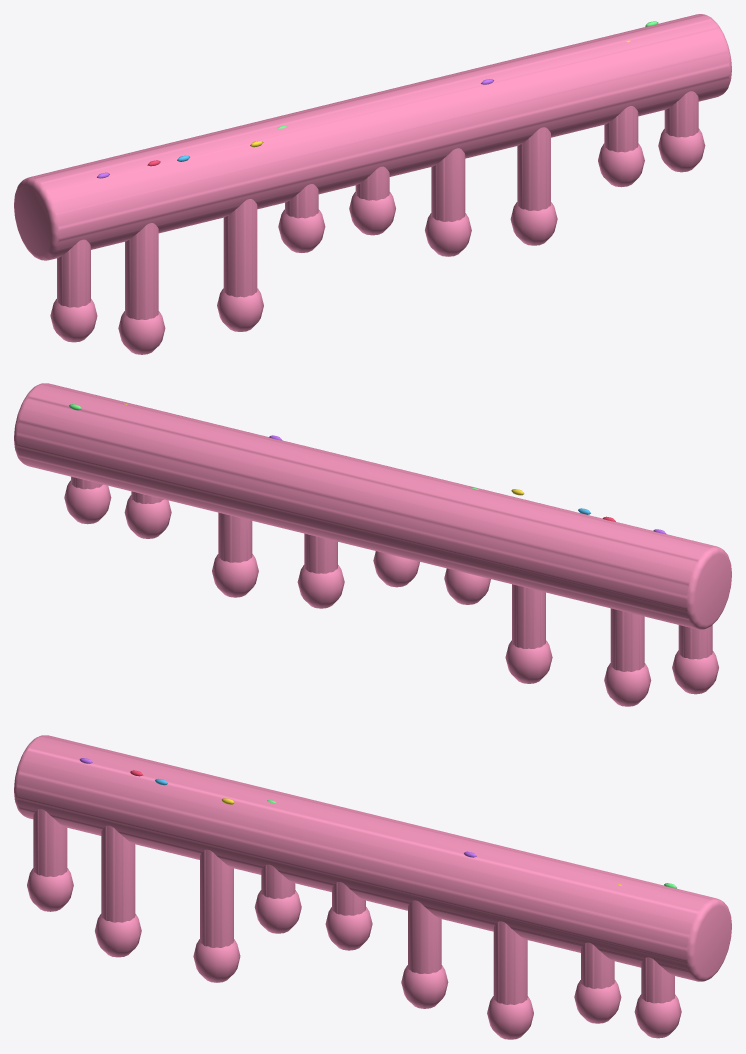
Rendered from FrostingEdge_P.glb.
3 renders of one model, top to bottom at view 1: azimuth 30°, elevation 25°; view 2: azimuth 150°, elevation 25°; view 3: azimuth 330°, elevation 25°, orthographic.
Visible parts, largest first — view 1: FrostingEdge_P.001; view 2: FrostingEdge_P.001; view 3: FrostingEdge_P.001.
Boxes of the visible parts, x1,y1,x2,y2 form: FrostingEdge_P.001: (14, 14, 731, 354); FrostingEdge_P.001: (14, 383, 731, 706); FrostingEdge_P.001: (14, 735, 731, 1039).
Size of the model in its own units: 4 by 1.06 by 0.4567.
